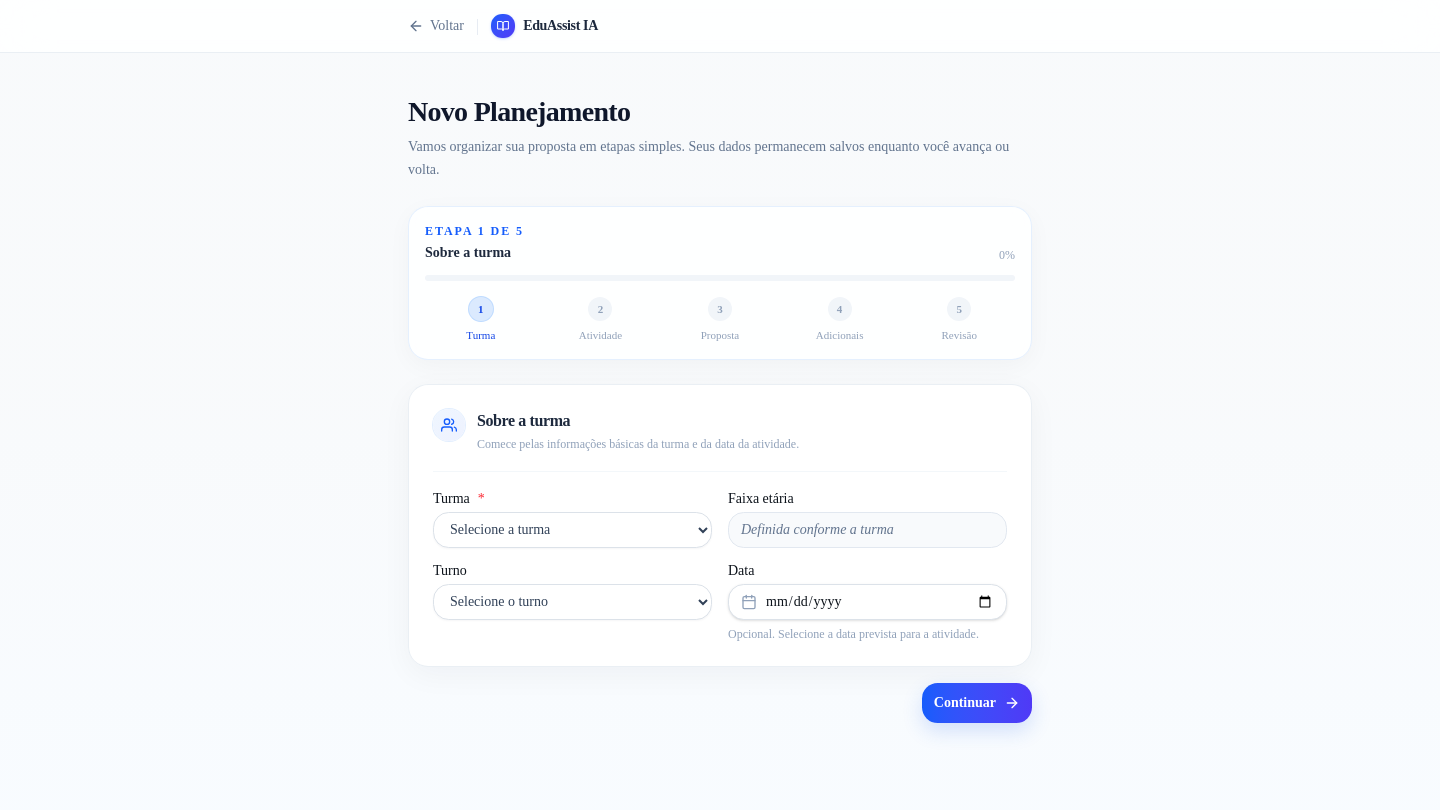
Test: Interface de planejamento › deve preencher a faixa etária automaticamente ao selecionar a turma
Step 1. Select "Infantil II" in the dropdown labelled "Turma *" → (572, 530), box [433, 512, 712, 548]
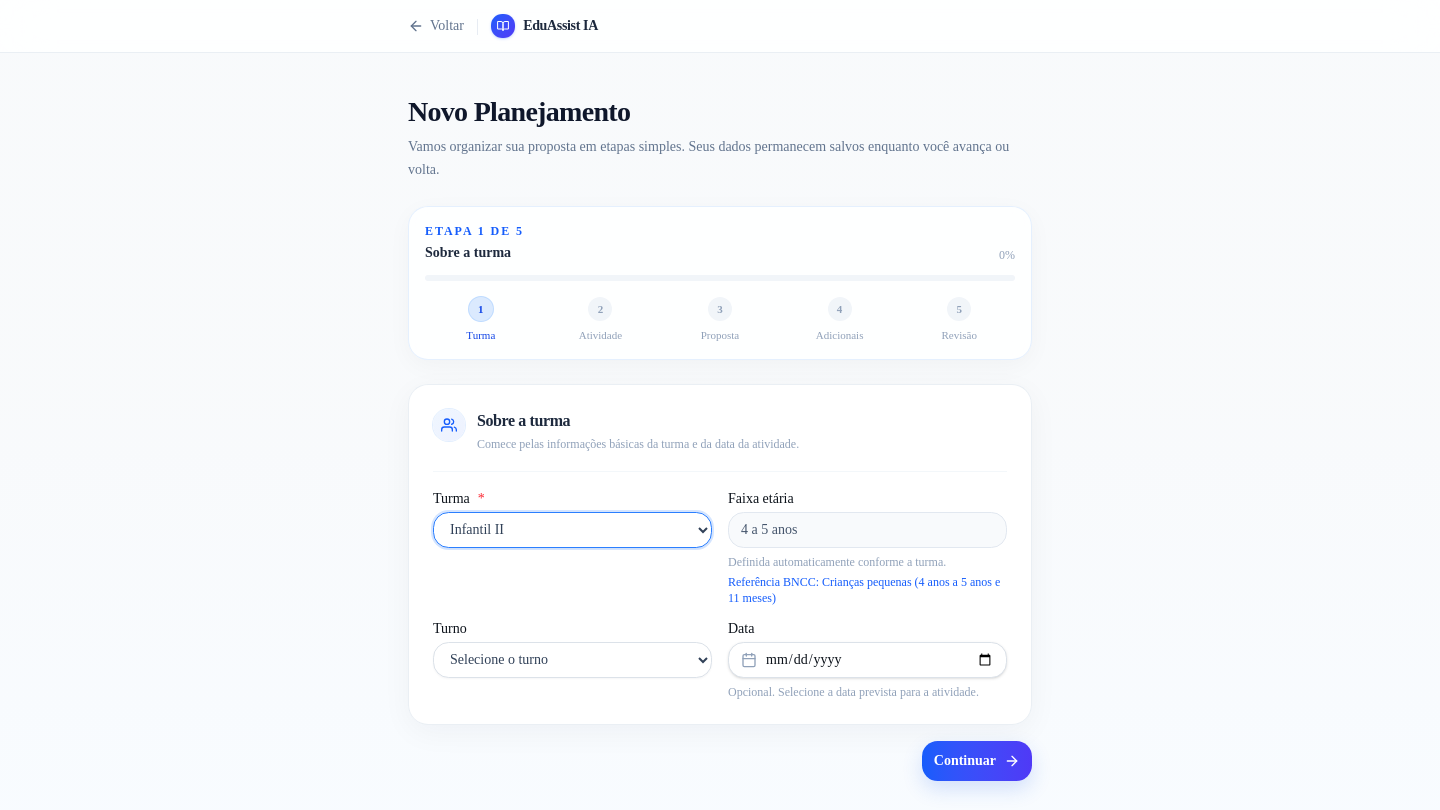
Result: the text "4 a 5 anos" is shown at [728, 512, 1007, 548]
